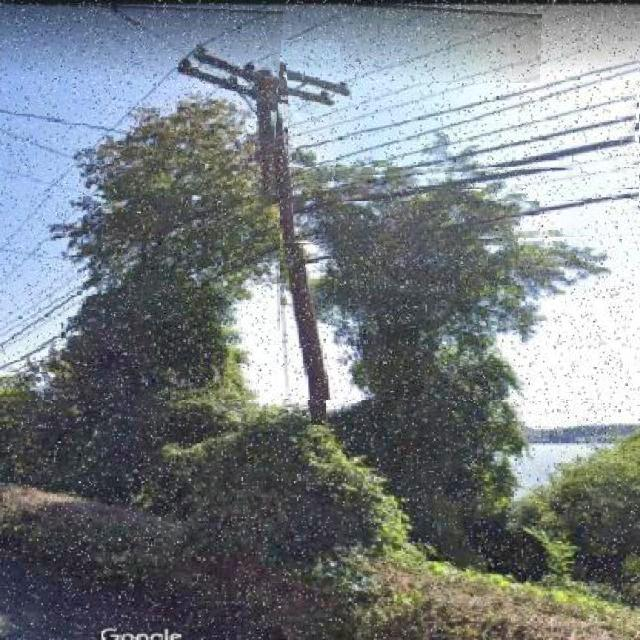crossarm: (181, 40, 352, 99)
pole: (246, 55, 326, 425)
wire: (5, 201, 640, 400), (0, 10, 283, 245), (0, 195, 267, 350), (293, 65, 636, 178), (288, 60, 639, 167), (295, 101, 640, 189), (294, 125, 640, 201), (301, 136, 640, 213), (293, 170, 640, 243), (340, 12, 542, 83), (0, 323, 84, 372)
